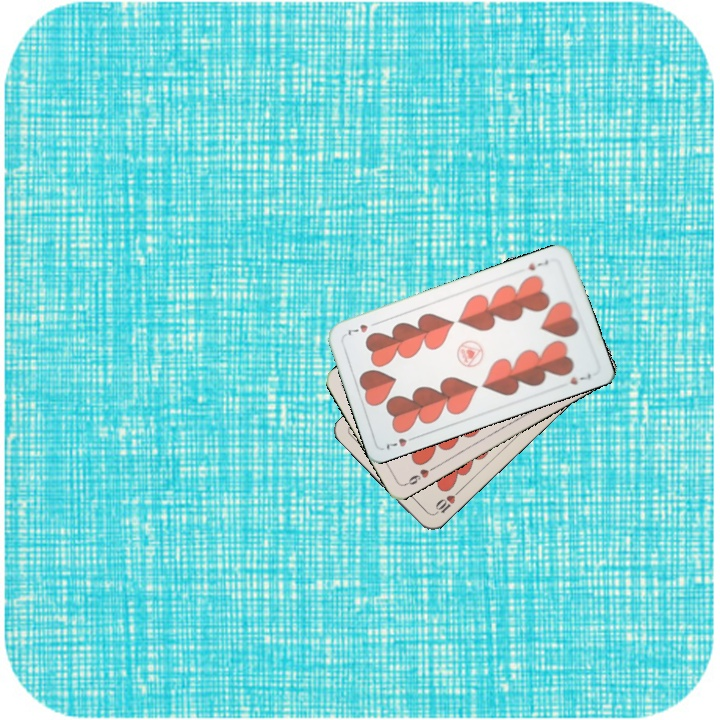H10: (430, 486, 463, 518)
H7: (382, 432, 420, 452), (524, 256, 551, 273)
H9: (401, 462, 438, 488)
